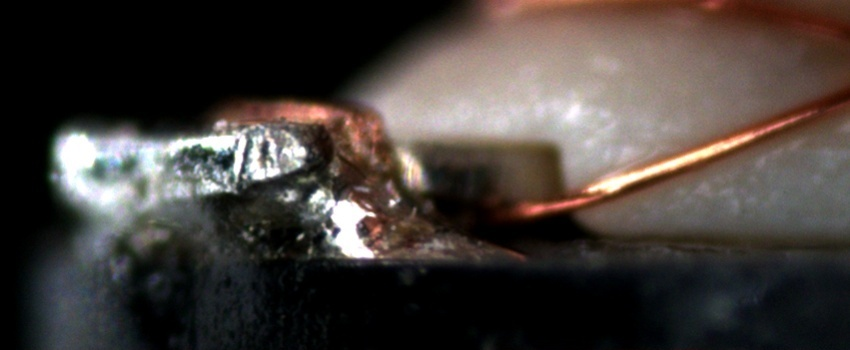DL: (590, 128, 849, 168)
TE: (212, 91, 392, 152)
